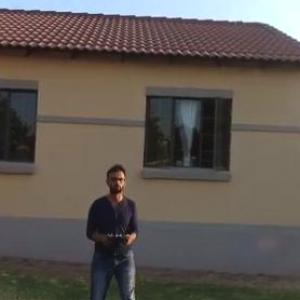follow: (78, 161, 142, 299)
